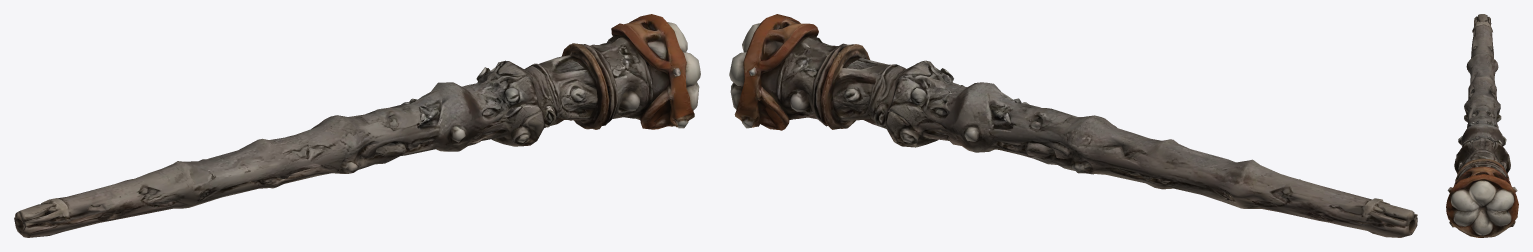
Rendered from wand.glb.
The picture shows the model from 3 angles, left to right: view 1: azimuth 30°, elevation 25°; view 2: azimuth 150°, elevation 25°; view 3: azimuth 270°, elevation 25°; orthographic projection. The views are drawn at different scales.
Visible parts, largest first — view 1: tripo_node_b927c393-17f6-41db-a677-bf57f04ca47a; view 2: tripo_node_b927c393-17f6-41db-a677-bf57f04ca47a; view 3: tripo_node_b927c393-17f6-41db-a677-bf57f04ca47a.
Part boxes in pixels (bbox=[...]): tripo_node_b927c393-17f6-41db-a677-bf57f04ca47a: bbox=[14, 14, 700, 237]; tripo_node_b927c393-17f6-41db-a677-bf57f04ca47a: bbox=[729, 14, 1417, 237]; tripo_node_b927c393-17f6-41db-a677-bf57f04ca47a: bbox=[1446, 14, 1518, 237].
Bounding box in the file's own units: 0.9791 × 0.1427 × 0.158.
Materials: 1 (1 with a texture image).
